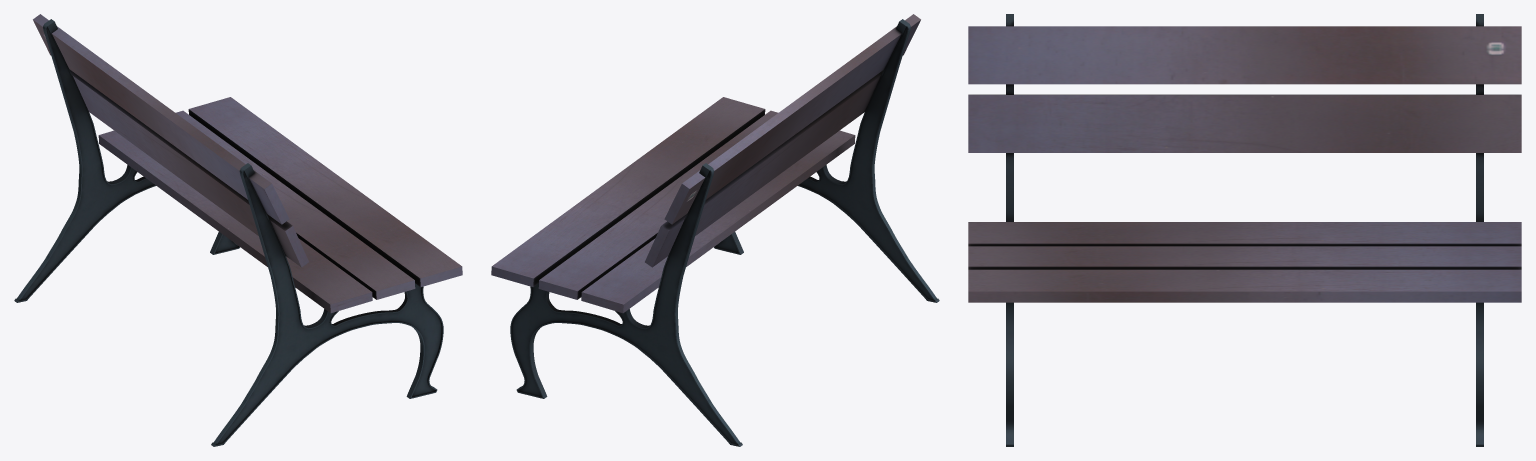
Rendered from banca_01.FBX.fbx.
3 renders of one model, left to right at view 1: azimuth 30°, elevation 25°; view 2: azimuth 150°, elevation 25°; view 3: azimuth 270°, elevation 25°, orthographic. The views are drawn at different scales.
Visible parts, largest first — view 1: banca_01; view 2: banca_01; view 3: banca_01.
Part boxes in pixels (<box>): banca_01: <box>14,14,462,446</box>; banca_01: <box>491,14,939,446</box>; banca_01: <box>968,14,1521,446</box>.
Bounding box in the file's own units: 1.38 × 1.55 × 2.38.
Materials: 1 (1 with a texture image).
